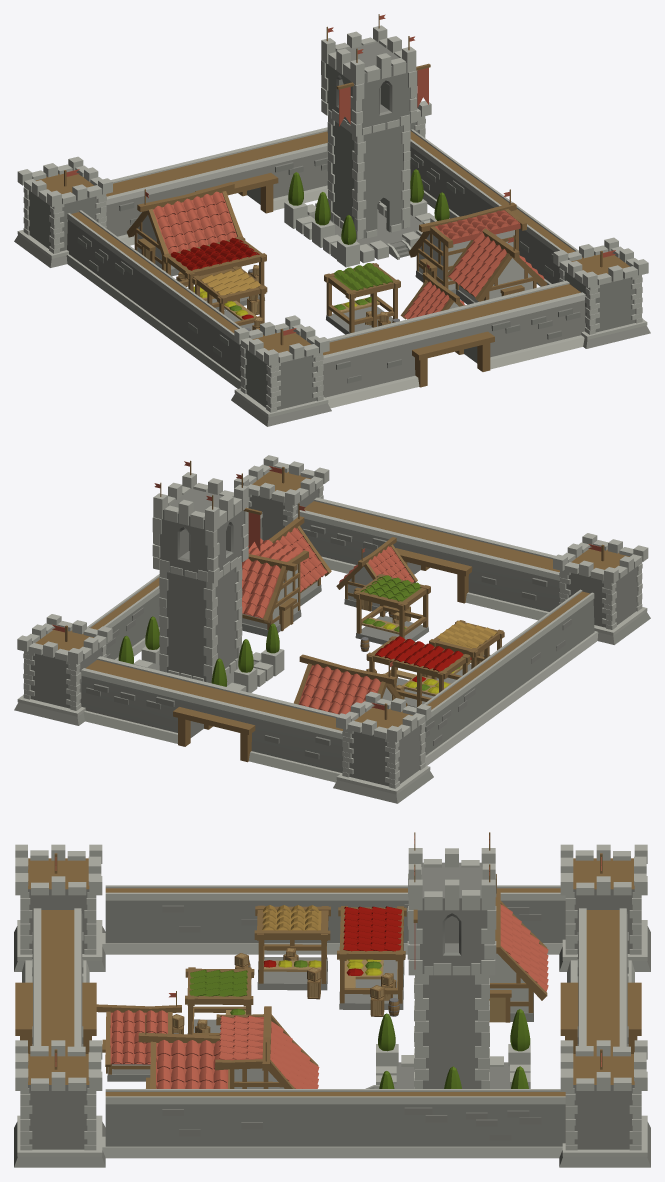
File: civ-MC-IV.glb
The picture shows the model from 3 angles, top to bottom: view 1: azimuth 30°, elevation 25°; view 2: azimuth 150°, elevation 25°; view 3: azimuth 270°, elevation 25°; orthographic projection. The views are drawn at different scales.
Parts seen in each view (by area): view 1: WallTowers_Door_SecondAge.001, WatchTower_SecondAge_Level3, WallTowers_Door_SecondAge, Wall_SecondAge.001, Houses_SecondAge_2_Level3, Market_SecondAge_Level2, Wall_SecondAge, Houses_SecondAge_1_Level2; view 2: WallTowers_Door_SecondAge, WallTowers_Door_SecondAge.001, WatchTower_SecondAge_Level3, Wall_SecondAge.001, Market_SecondAge_Level2, Houses_SecondAge_2_Level3, Houses_SecondAge_1_Level2, Wall_SecondAge; view 3: Wall_SecondAge, WallTowers_Door_SecondAge.001, WallTowers_Door_SecondAge, WatchTower_SecondAge_Level3, Wall_SecondAge.001, Market_SecondAge_Level2, Houses_SecondAge_2_Level3, Houses_SecondAge_1_Level2.
Boxes of the visible parts, x1,y1,x2,y2 form: WallTowers_Door_SecondAge.001: [231, 237, 650, 426]; WatchTower_SecondAge_Level3: [284, 14, 449, 267]; WallTowers_Door_SecondAge: [14, 93, 431, 267]; Wall_SecondAge.001: [66, 210, 241, 388]; Houses_SecondAge_2_Level3: [400, 189, 547, 319]; Market_SecondAge_Level2: [163, 236, 400, 334]; Wall_SecondAge: [410, 129, 578, 286]; Houses_SecondAge_1_Level2: [127, 182, 242, 286]; WallTowers_Door_SecondAge: [14, 614, 433, 803]; WallTowers_Door_SecondAge.001: [234, 455, 650, 644]; WatchTower_SecondAge_Level3: [118, 460, 284, 692]; Wall_SecondAge.001: [423, 589, 598, 765]; Market_SecondAge_Level2: [353, 574, 504, 707]; Houses_SecondAge_2_Level3: [242, 503, 417, 636]; Houses_SecondAge_1_Level2: [294, 654, 407, 714]; Wall_SecondAge: [87, 512, 262, 660]; Wall_SecondAge: [102, 1089, 565, 1158]; WallTowers_Door_SecondAge.001: [14, 844, 105, 1167]; WallTowers_Door_SecondAge: [559, 844, 650, 1167]; WatchTower_SecondAge_Level3: [365, 832, 530, 1088]; Wall_SecondAge.001: [102, 885, 565, 954]; Market_SecondAge_Level2: [172, 905, 406, 1035]; Houses_SecondAge_2_Level3: [96, 991, 319, 1088]; Houses_SecondAge_1_Level2: [489, 874, 548, 1022].
Size of the model in its own units: 4.78 by 2.45 by 5.47.
